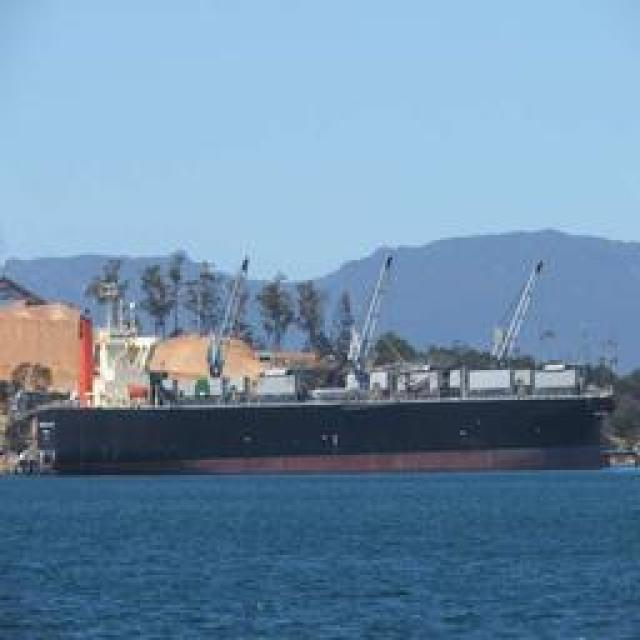ship2: (9, 243, 618, 476)
